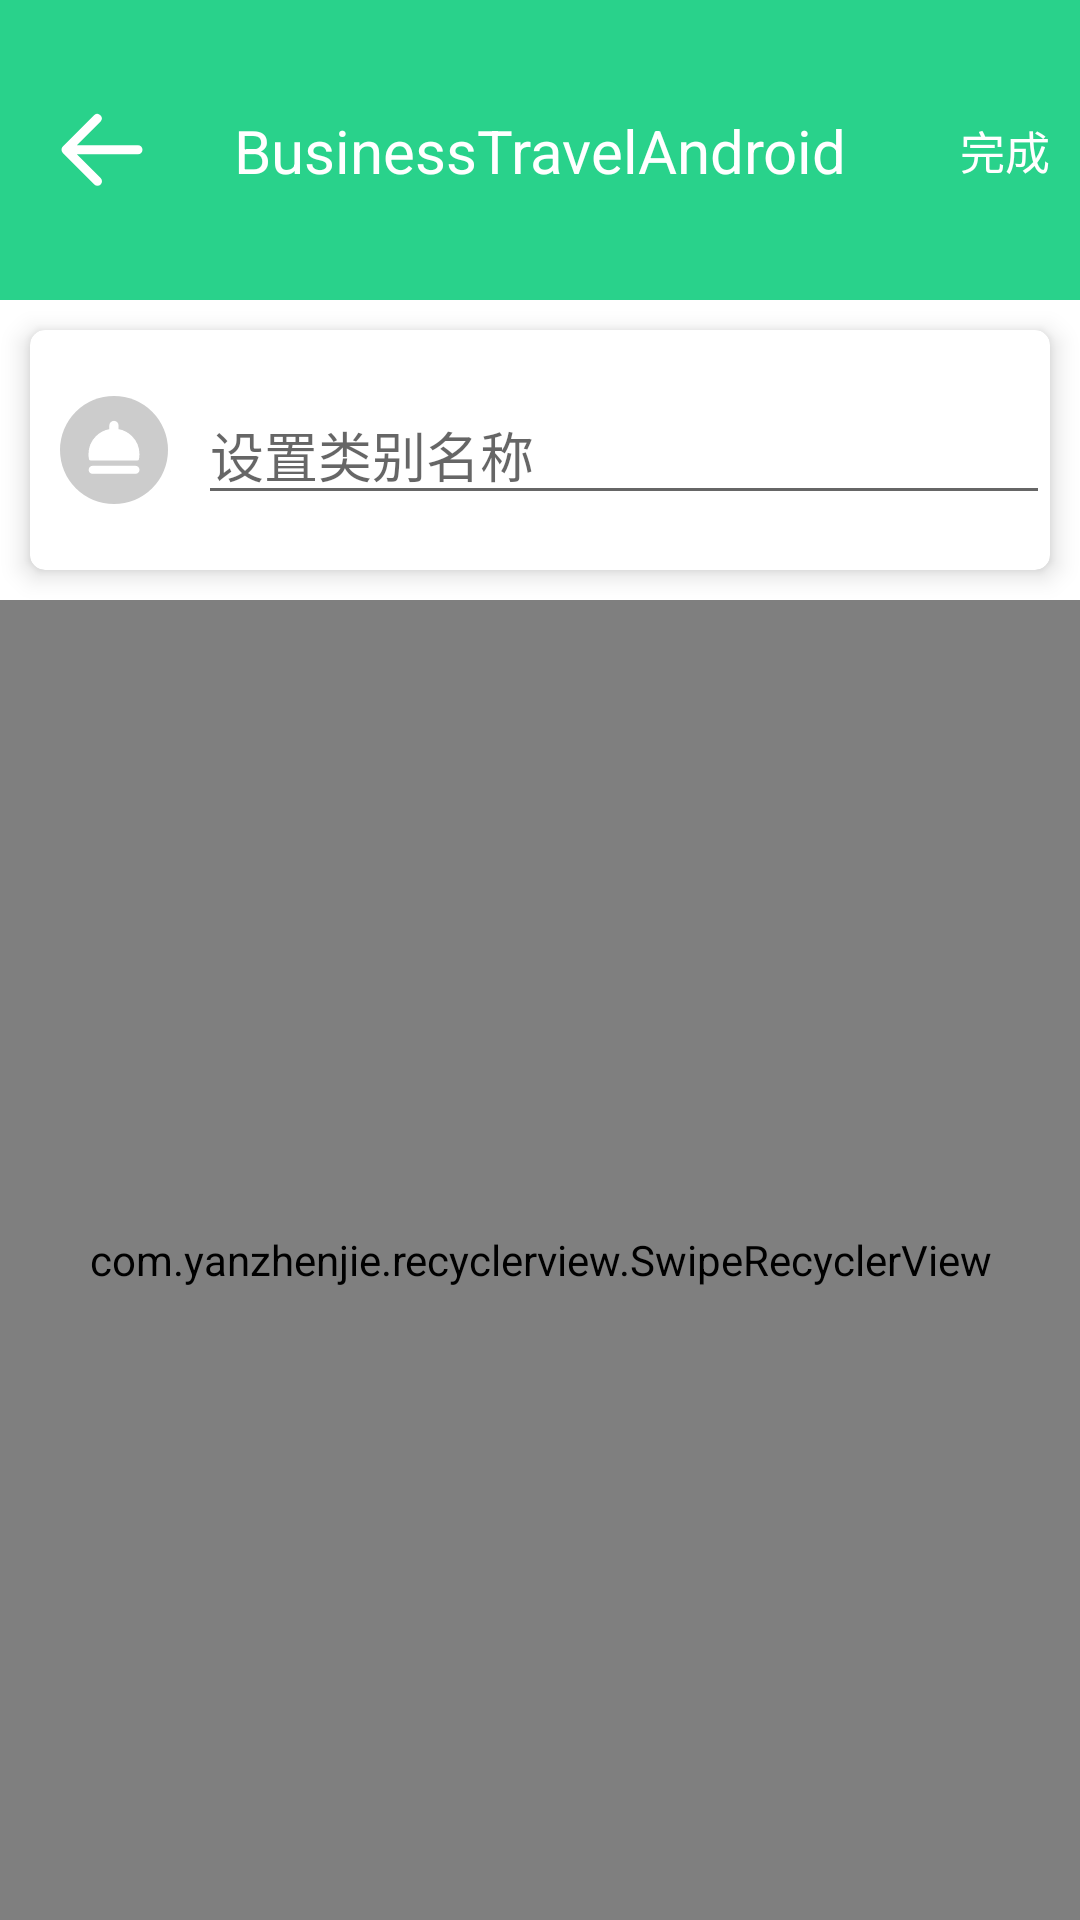

Icon bounding boxes for this 1080×1920 phone screenshot, format {"left": x1, "top": y1, "right": x2, "bottom": y2}:
bill food: {"left": 60, "top": 396, "right": 168, "bottom": 504}
return: {"left": 61, "top": 113, "right": 143, "bottom": 186}
